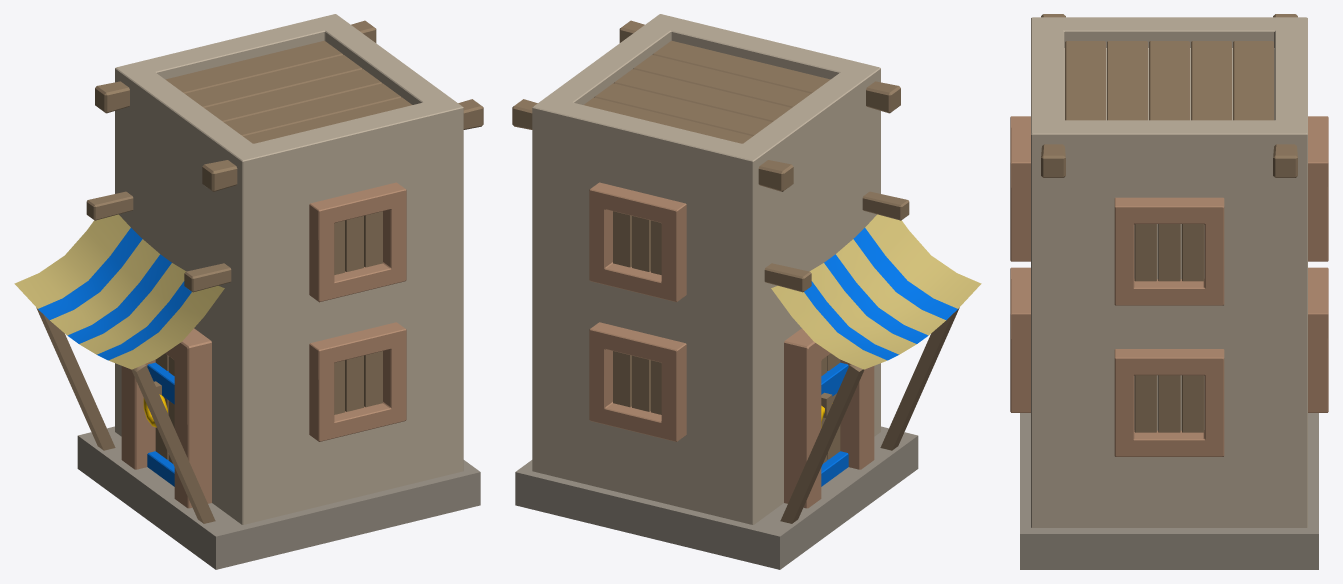
File: mesh_shack_02.fbx
3 renders of one model, left to right at view 1: azimuth 30°, elevation 25°; view 2: azimuth 150°, elevation 25°; view 3: azimuth 270°, elevation 25°, orthographic. The views are drawn at different scales.
Parts seen in each view (by area): view 1: mesh_shack_02; view 2: mesh_shack_02; view 3: mesh_shack_02.
Part boxes in pixels (x1=…): mesh_shack_02: x1=14, y1=14, x2=483, y2=569; mesh_shack_02: x1=512, y1=14, x2=981, y2=569; mesh_shack_02: x1=1010, y1=14, x2=1328, y2=569.
Bounding box in the file's own units: 0.0557 × 0.0601 × 0.0403.
